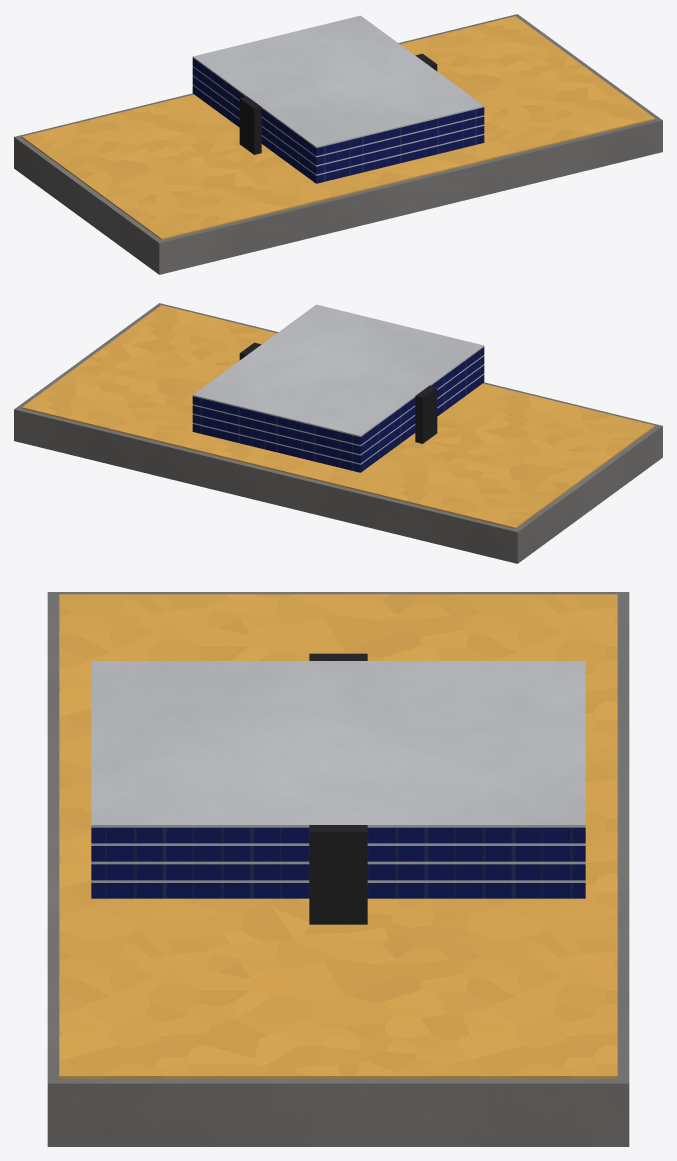
File: rover28_solar_mount_m.glb
The picture shows the model from 3 angles, top to bottom: view 1: azimuth 30°, elevation 25°; view 2: azimuth 150°, elevation 25°; view 3: azimuth 270°, elevation 25°; orthographic projection. The views are drawn at different scales.
Parts seen in each view (by area): view 1: base_foil, base, panel_frames, panel_stack, stow_clamps; view 2: base_foil, base, panel_frames, panel_stack, stow_clamps; view 3: base_foil, panel_frames, base, panel_stack, stow_clamps.
Boxes of the visible parts, x1,y1,x2,y2 form: base_foil: [22, 16, 654, 239]; base: [14, 14, 662, 274]; panel_frames: [192, 15, 484, 175]; panel_stack: [192, 58, 484, 183]; stow_clamps: [239, 53, 437, 154]; base_foil: [22, 305, 654, 528]; base: [14, 303, 662, 563]; panel_frames: [192, 304, 484, 464]; panel_stack: [192, 347, 484, 472]; stow_clamps: [239, 342, 437, 443]; base_foil: [59, 594, 617, 1078]; panel_frames: [91, 661, 585, 882]; base: [47, 592, 629, 1146]; panel_stack: [91, 827, 585, 898]; stow_clamps: [309, 653, 367, 924].
Bounding box in the file's own units: 2 × 0.3 × 1.
Materials: 5 (4 with a texture image).
